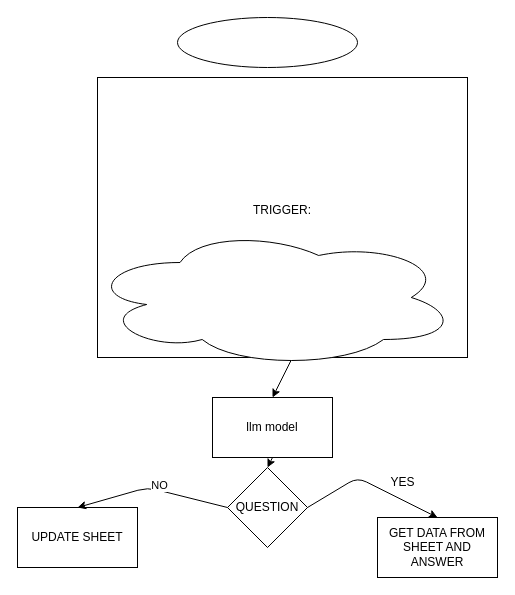
This 515x595 diagram has some shape labels left out. The shapes that lost their labels are listed below. From the top down, each one's box as (x1, y1, x2, y2) in pixels, then its label:
(176, 16, 358, 68): START
(86, 226, 458, 368): MESSAGE IN TELEGRAM
